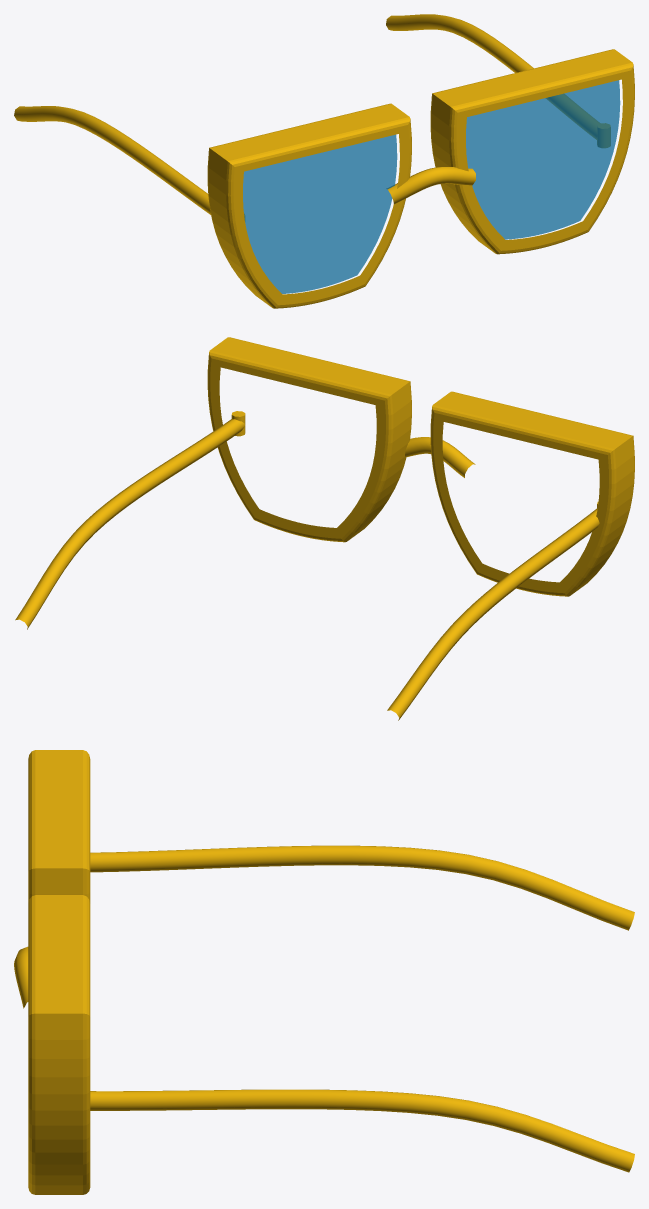
The model's file is aviator-gold.glb.
The picture shows the model from 3 angles, top to bottom: view 1: azimuth 30°, elevation 25°; view 2: azimuth 150°, elevation 25°; view 3: azimuth 270°, elevation 25°; orthographic projection. The views are drawn at different scales.
Visible parts, largest first — view 1: LeftLens, RightLens, LeftRim_FrameMesh, RightRim_FrameMesh, LeftTemple_FrameMesh, RightTemple_FrameMesh, Bridge_FrameMesh; view 2: RightRim_FrameMesh, LeftRim_FrameMesh, RightTemple_FrameMesh, LeftTemple_FrameMesh, Bridge_FrameMesh; view 3: RightRim_FrameMesh, LeftTemple_FrameMesh, RightTemple_FrameMesh, LeftRim_FrameMesh, Bridge_FrameMesh.
Part boxes in pixels (x1,y1,x2,y2): LeftLens: [243, 134, 397, 293]; RightLens: [466, 80, 620, 239]; LeftRim_FrameMesh: [207, 103, 411, 308]; RightRim_FrameMesh: [430, 49, 634, 254]; LeftTemple_FrameMesh: [14, 106, 210, 214]; RightTemple_FrameMesh: [386, 14, 599, 139]; Bridge_FrameMesh: [387, 167, 475, 204]; RightRim_FrameMesh: [207, 337, 411, 542]; LeftRim_FrameMesh: [430, 391, 634, 596]; RightTemple_FrameMesh: [15, 419, 245, 629]; LeftTemple_FrameMesh: [387, 508, 599, 720]; Bridge_FrameMesh: [405, 437, 475, 477]; RightRim_FrameMesh: [28, 895, 90, 1194]; LeftTemple_FrameMesh: [90, 845, 634, 930]; RightTemple_FrameMesh: [90, 1089, 634, 1172]; LeftRim_FrameMesh: [28, 750, 90, 903]; Bridge_FrameMesh: [14, 946, 28, 1008].
Size of the model in its own units: 132 by 50.25 by 130.
